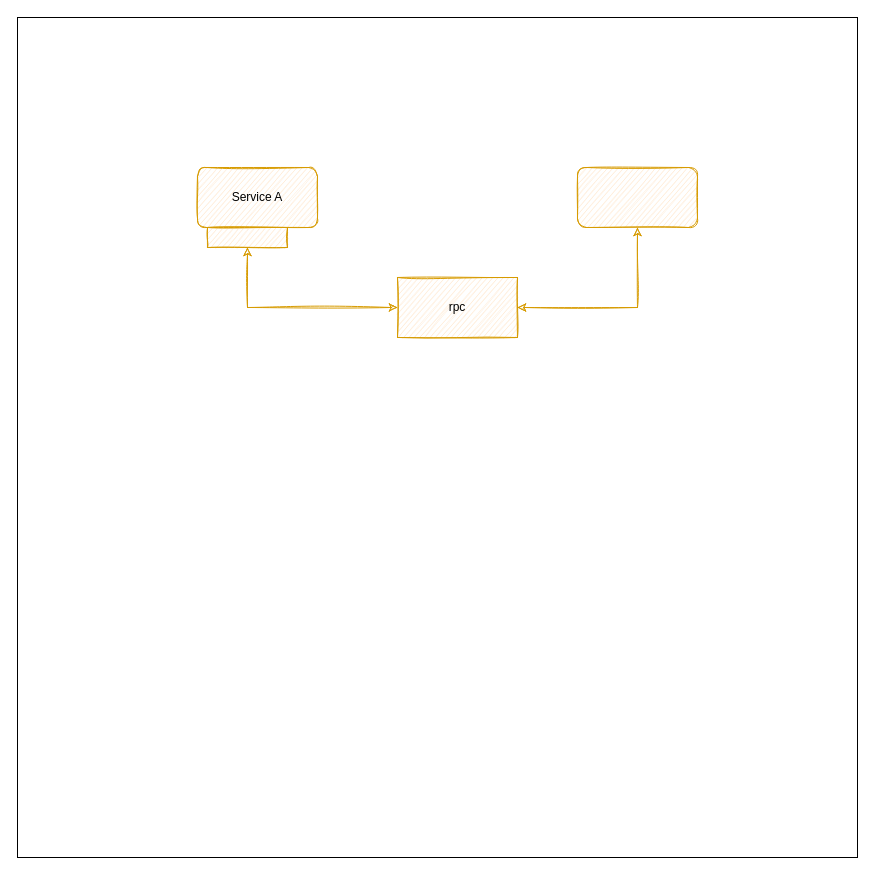
Some shapes in this 875 by 875 pixel diagram are drawn without their labels. Here are the shapes that lost their labels. From the top down, the centre of each, then its label:
At (x=637, y=197): "Service B".
At (x=247, y=237): "ServiceB Api".
